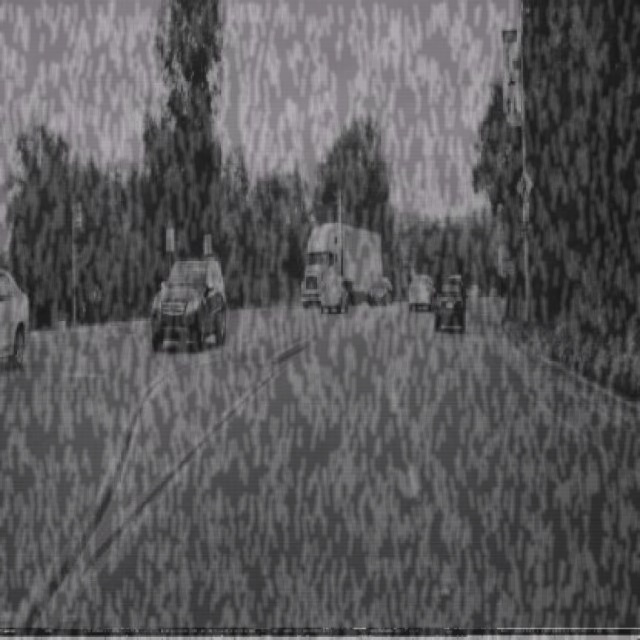pedestrianCrossing: (516, 168, 534, 205)
